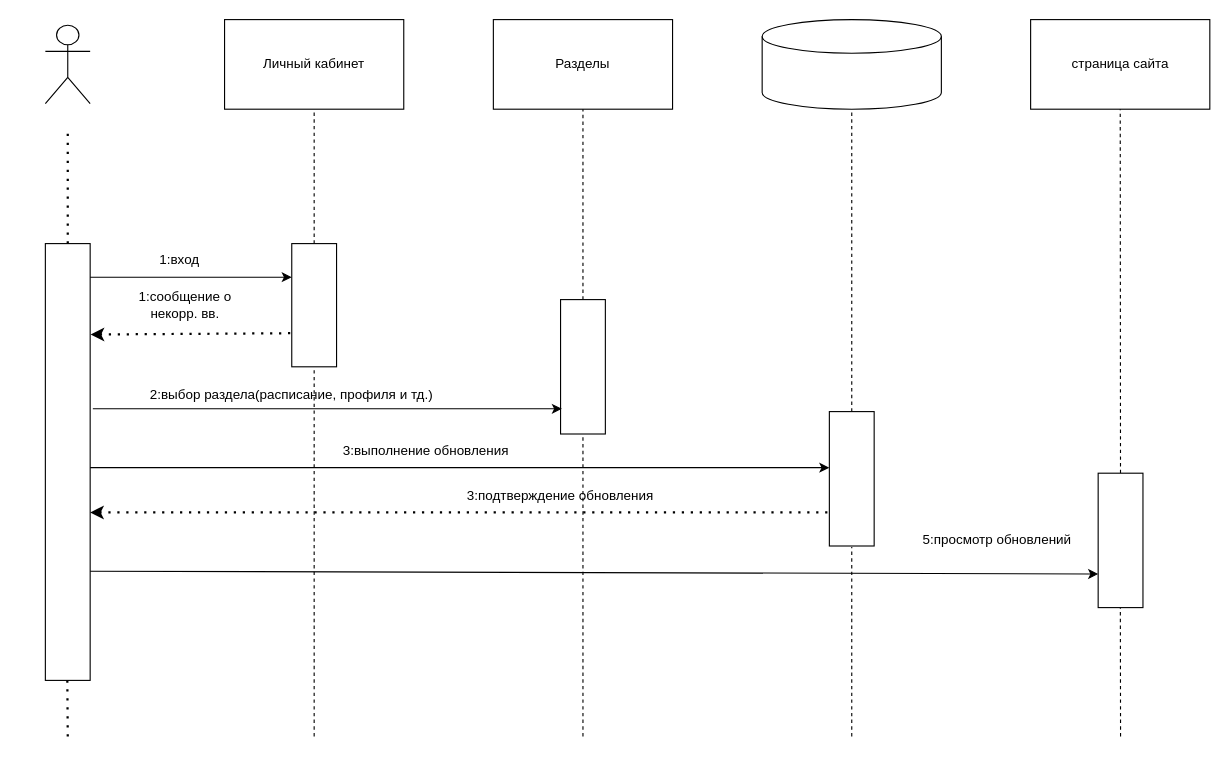
This 1230x758 diagram has some shape labels left out. Here are the shapes that lost their labels. From the top down, the box of each, then its label:
(44, 24, 90, 104): Администратор
(761, 18, 941, 109): База данных
